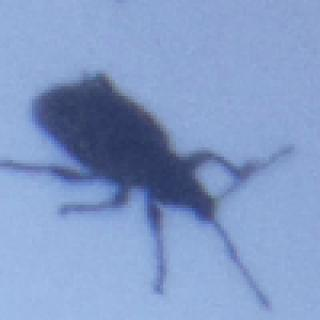bvw: (2, 71, 294, 309)
